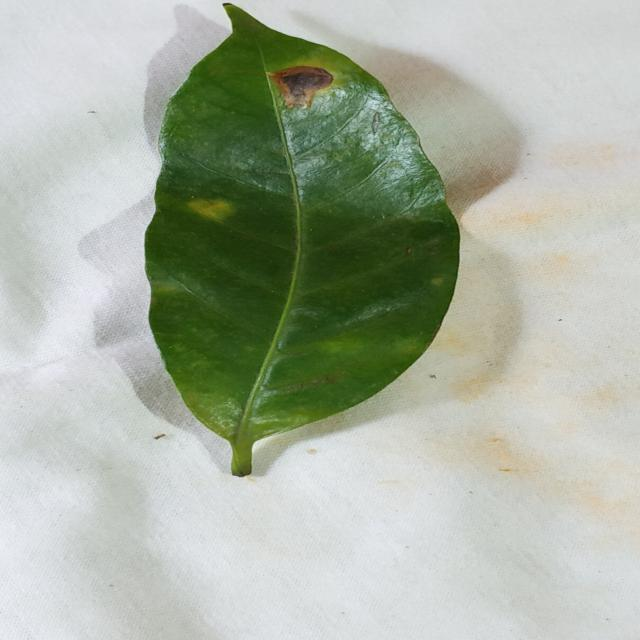Enfermedad-Roya: (143, 4, 461, 480)
